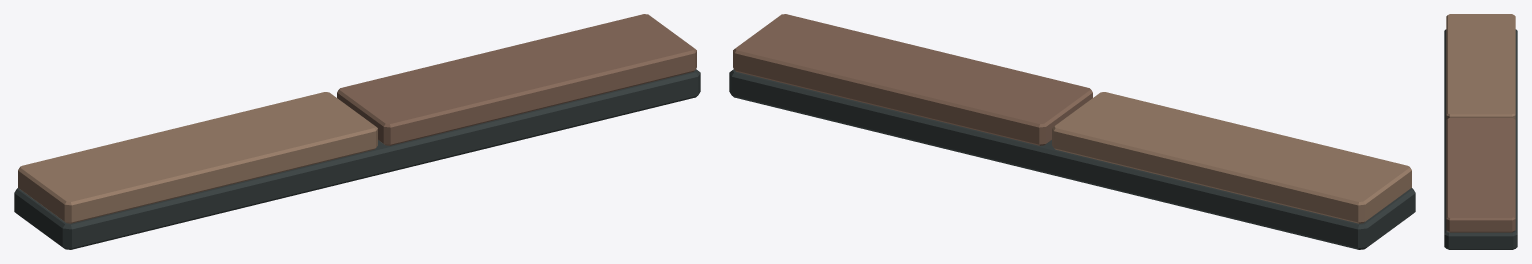
The model's file is floor-border.glb.
3 views of the same model, side by side, from view 1: azimuth 30°, elevation 25°; view 2: azimuth 150°, elevation 25°; view 3: azimuth 270°, elevation 25° (orthographic). The views are drawn at different scales.
Visible parts, largest first — view 1: floor-border__body; view 2: floor-border__body; view 3: floor-border__body.
Part boxes in pixels (x1=…): floor-border__body: x1=14, y1=14, x2=700, y2=249; floor-border__body: x1=729, y1=14, x2=1415, y2=249; floor-border__body: x1=1444, y1=14, x2=1517, y2=249.
Size of the model in its own units: 2 by 0.14 by 0.3.
